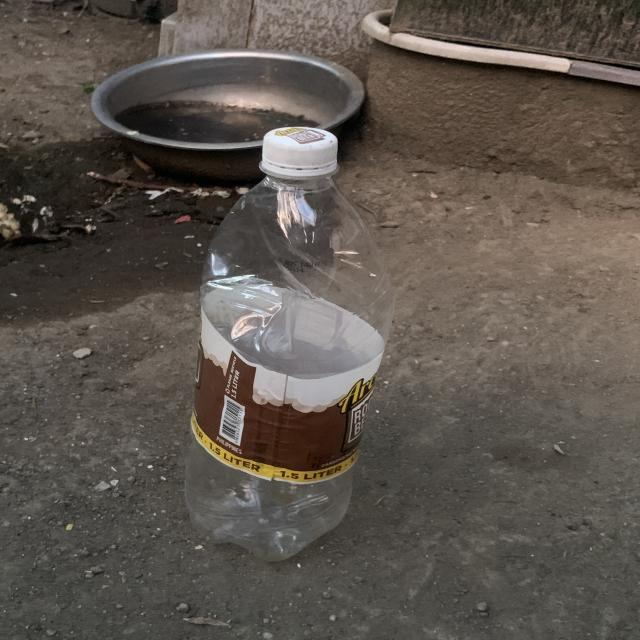Bottle: (186, 128, 394, 560)
